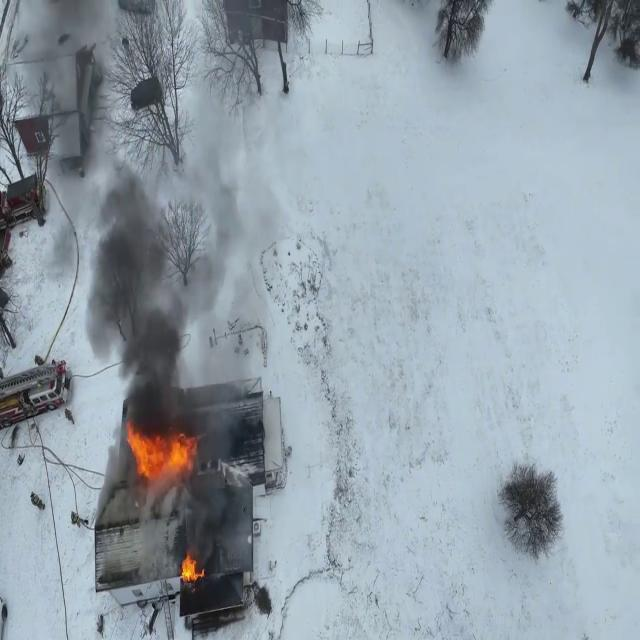Fire: (124, 421, 204, 488), (174, 547, 204, 588)
Smoke: (31, 3, 226, 410)
